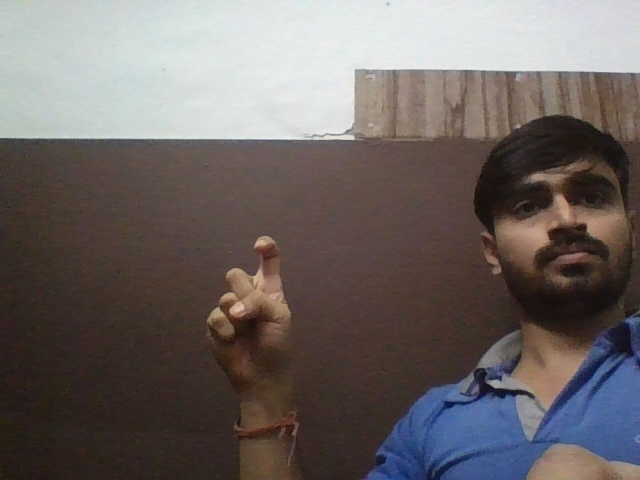X: (190, 222, 324, 410)
